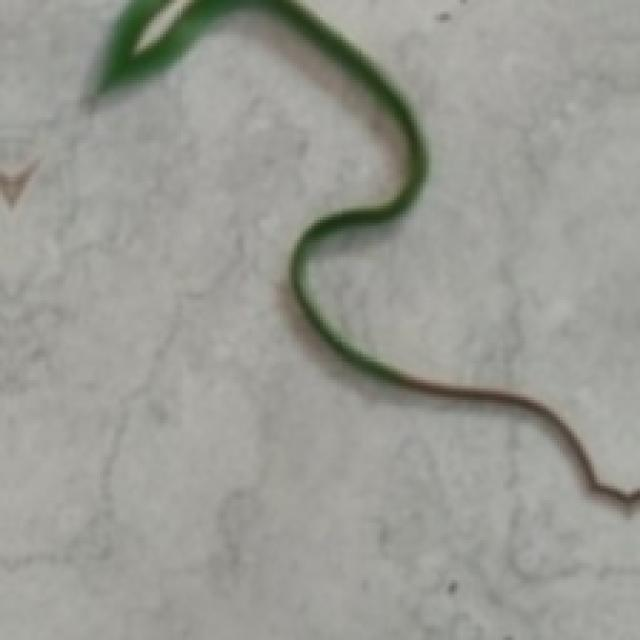red-tailed green ratsnake: (101, 0, 640, 504)
